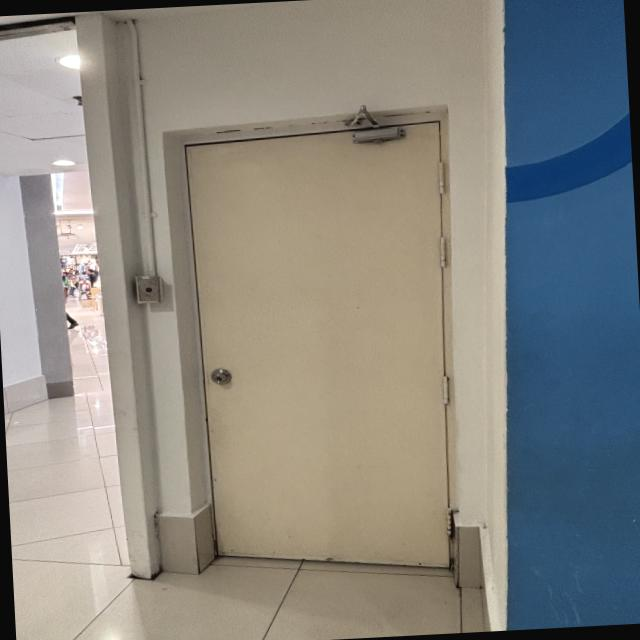door: (171, 106, 454, 572)
